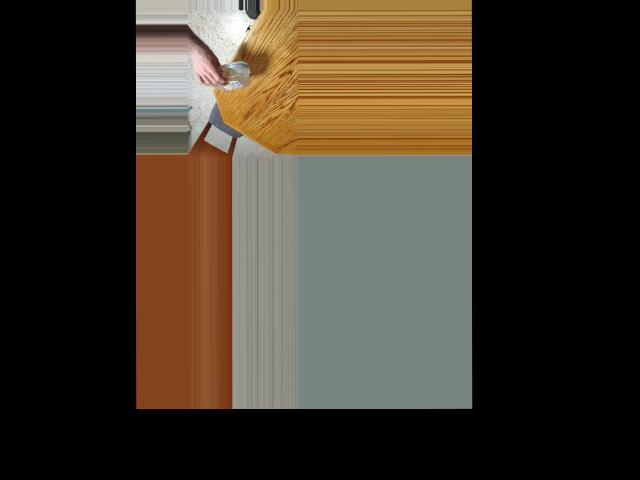cheese: (204, 58, 242, 91)
